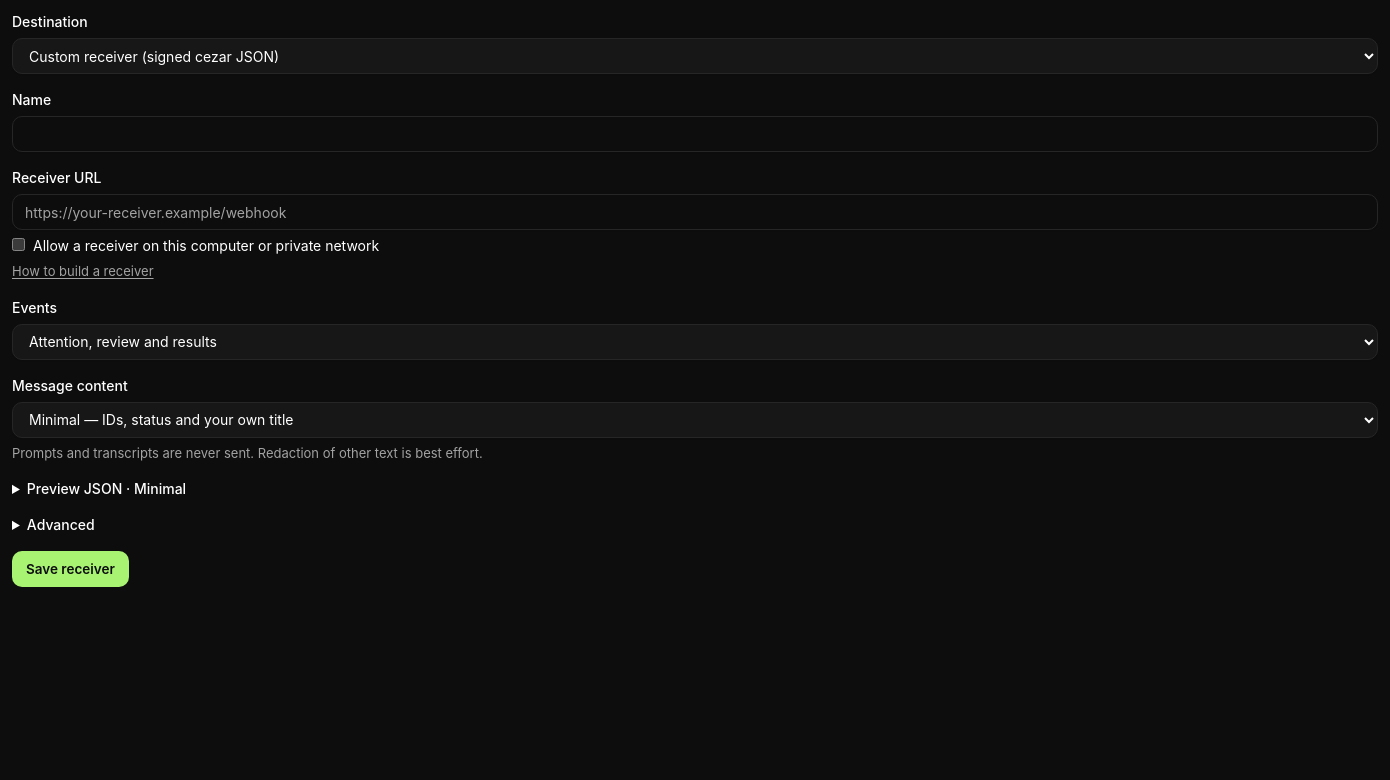
Test: chat destination settings › keeps Slack Minimal preview free of titles and questions
Select "Slack channel (Incoming Webhook)" in the dropdown labelled "Destination" at (695, 56), box [12,38,1378,74]
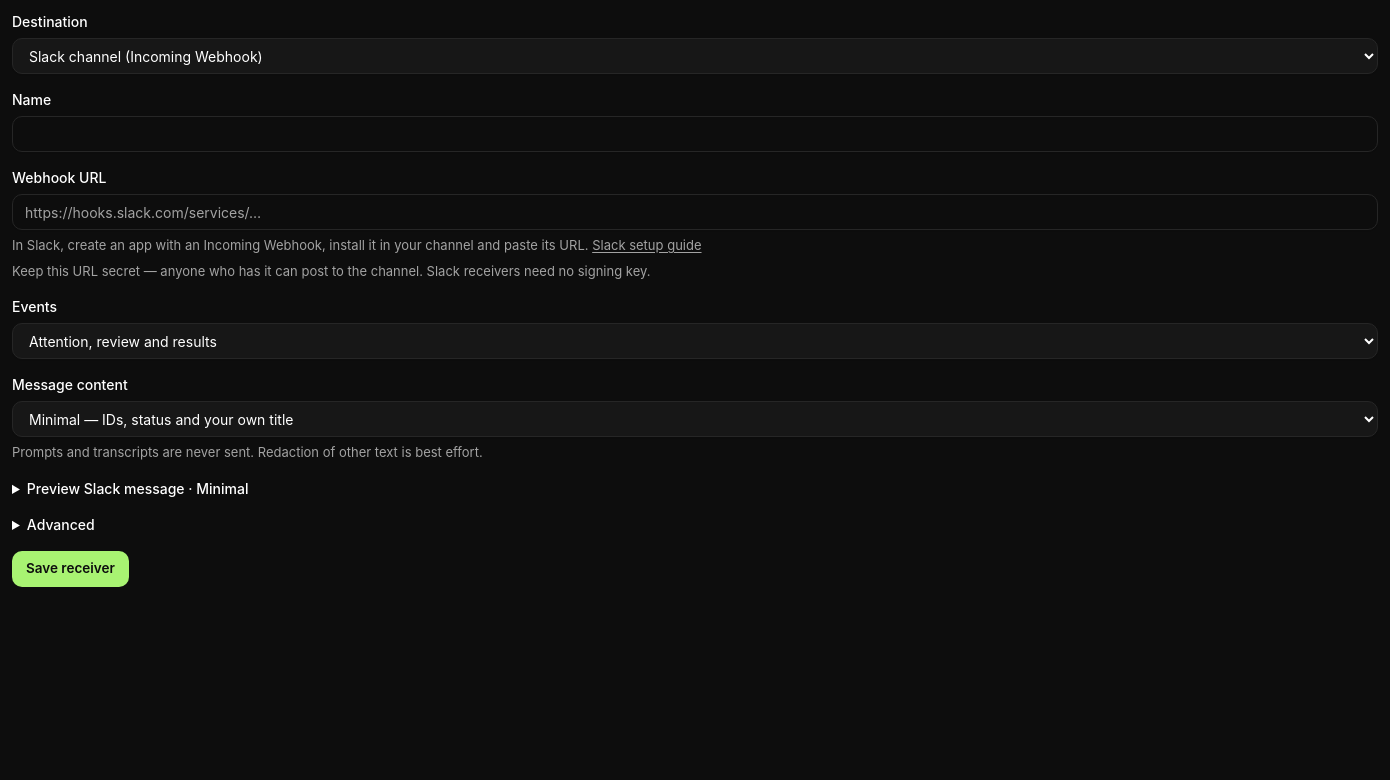
Select "Standard — task titles, questions and errors" in the dropdown labelled "Message content" at (695, 419), box [12,401,1378,437]
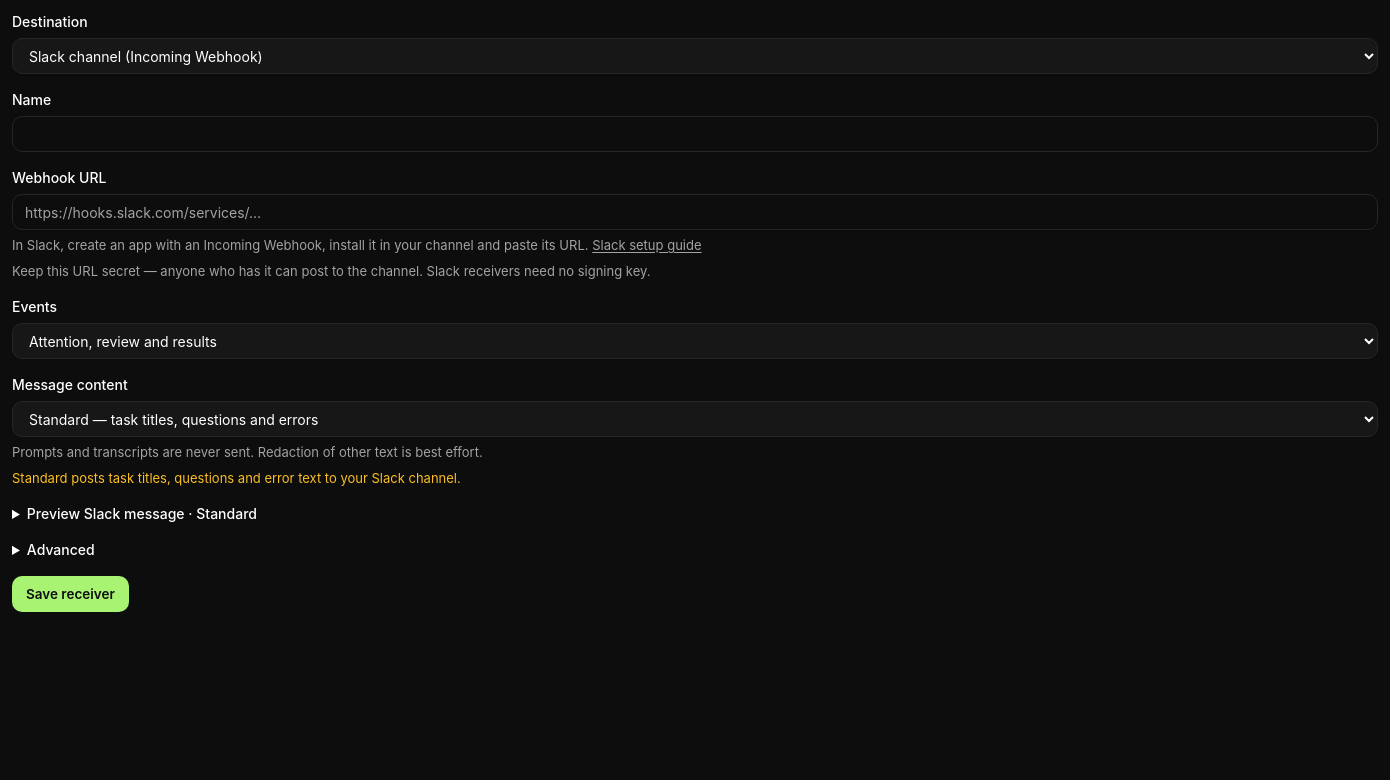
Expected: the text "Standard posts task titles" shows "Slack", [372,470,405,486]
